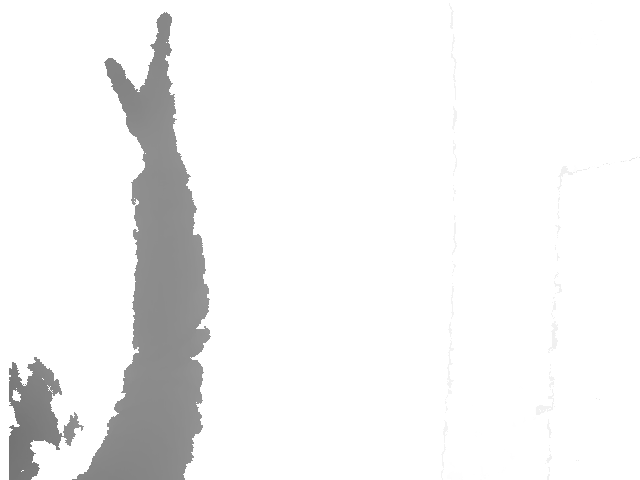hand: (102, 11, 179, 148)
person: (8, 11, 210, 480)
